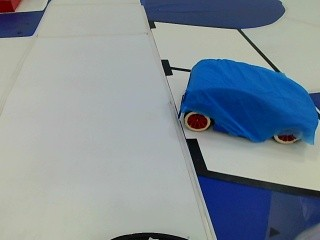car: (171, 58, 318, 145)
